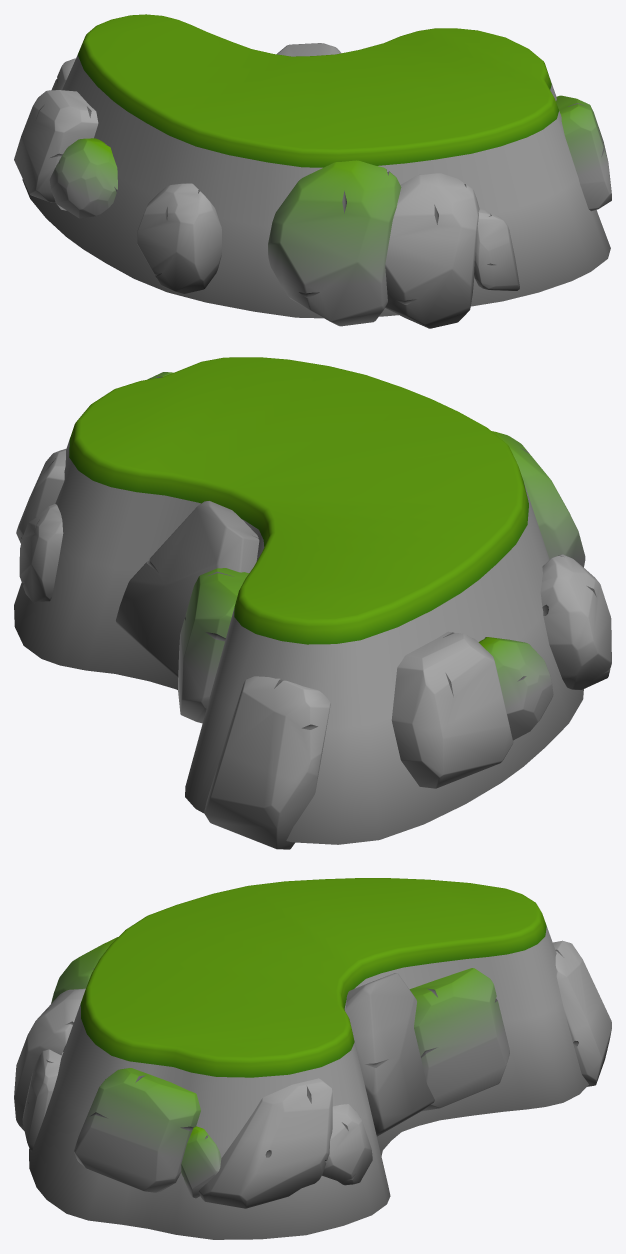
Rendered from RockMountain07.fbx.
3 renders of one model, top to bottom at view 1: azimuth 30°, elevation 25°; view 2: azimuth 150°, elevation 25°; view 3: azimuth 270°, elevation 25°, orthographic. The views are drawn at different scales.
Parts seen in each view (by area): view 1: LOD0; view 2: LOD0; view 3: LOD0.
Boxes of the visible parts, x1,y1,x2,y2 form: LOD0: [14, 14, 611, 328]; LOD0: [14, 357, 611, 849]; LOD0: [14, 878, 611, 1239].
Size of what is drawn, in the model's own units: 1243 by 1284 by 404.
